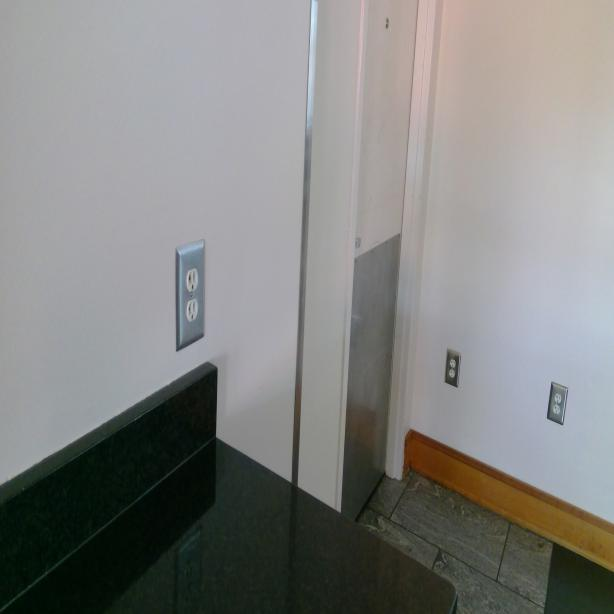typeb: (185, 266, 200, 292), (185, 299, 199, 323)
